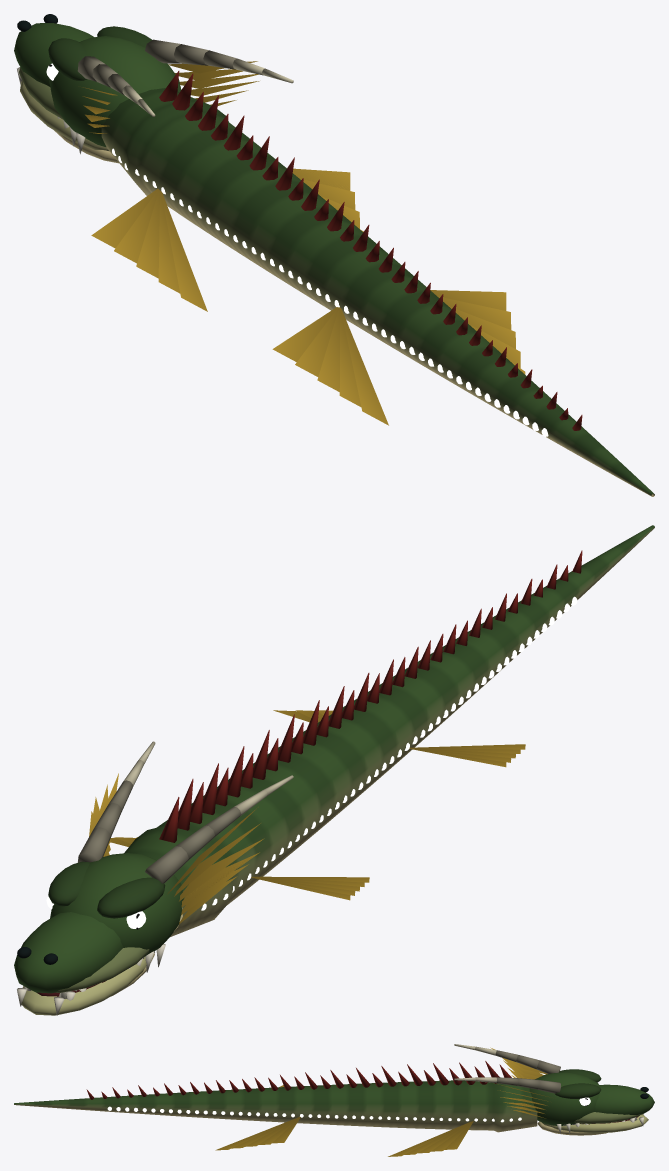
The model's file is serpente.glb.
3 renders of one model, top to bottom at view 1: azimuth 30°, elevation 25°; view 2: azimuth 150°, elevation 25°; view 3: azimuth 270°, elevation 25°, orthographic. The views are drawn at different scales.
Parts seen in each view (by area): view 1: Corpo, Brilho, Mandibula; view 2: Corpo, Mandibula, Brilho; view 3: Corpo, Mandibula, Brilho.
Boxes of the visible parts, x1=… form: Corpo: x1=14, y1=14, x2=654, y2=496; Brilho: x1=46, y1=63, x2=548, y2=436; Mandibula: x1=20, y1=80, x2=119, y2=163; Corpo: x1=14, y1=525, x2=654, y2=996; Mandibula: x1=21, y1=951, x2=154, y2=1015; Brilho: x1=46, y1=596, x2=577, y2=928; Corpo: x1=14, y1=1044, x2=654, y2=1156; Mandibula: x1=537, y1=1114, x2=648, y2=1135; Brilho: x1=107, y1=1097, x2=590, y2=1122.
Size of the model in its own units: 17.56 by 9.65 by 73.5.
